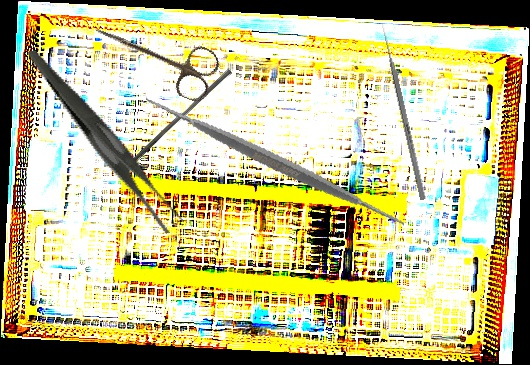Dressing Forceps: (27, 22, 186, 257)
Iris Scissors: (83, 6, 224, 106)
Pusher: (121, 64, 233, 177), (379, 23, 427, 201)
Spatula Surgical: (141, 27, 409, 295)
